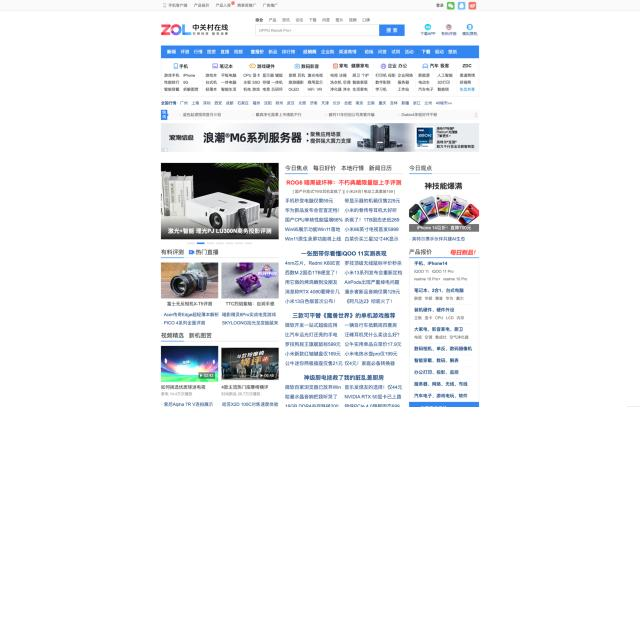input: (255, 23, 406, 38)
logo: (158, 20, 232, 39)
navigation: (160, 44, 480, 60), (159, 97, 456, 107), (283, 160, 404, 176), (162, 0, 282, 10), (254, 16, 371, 24)
